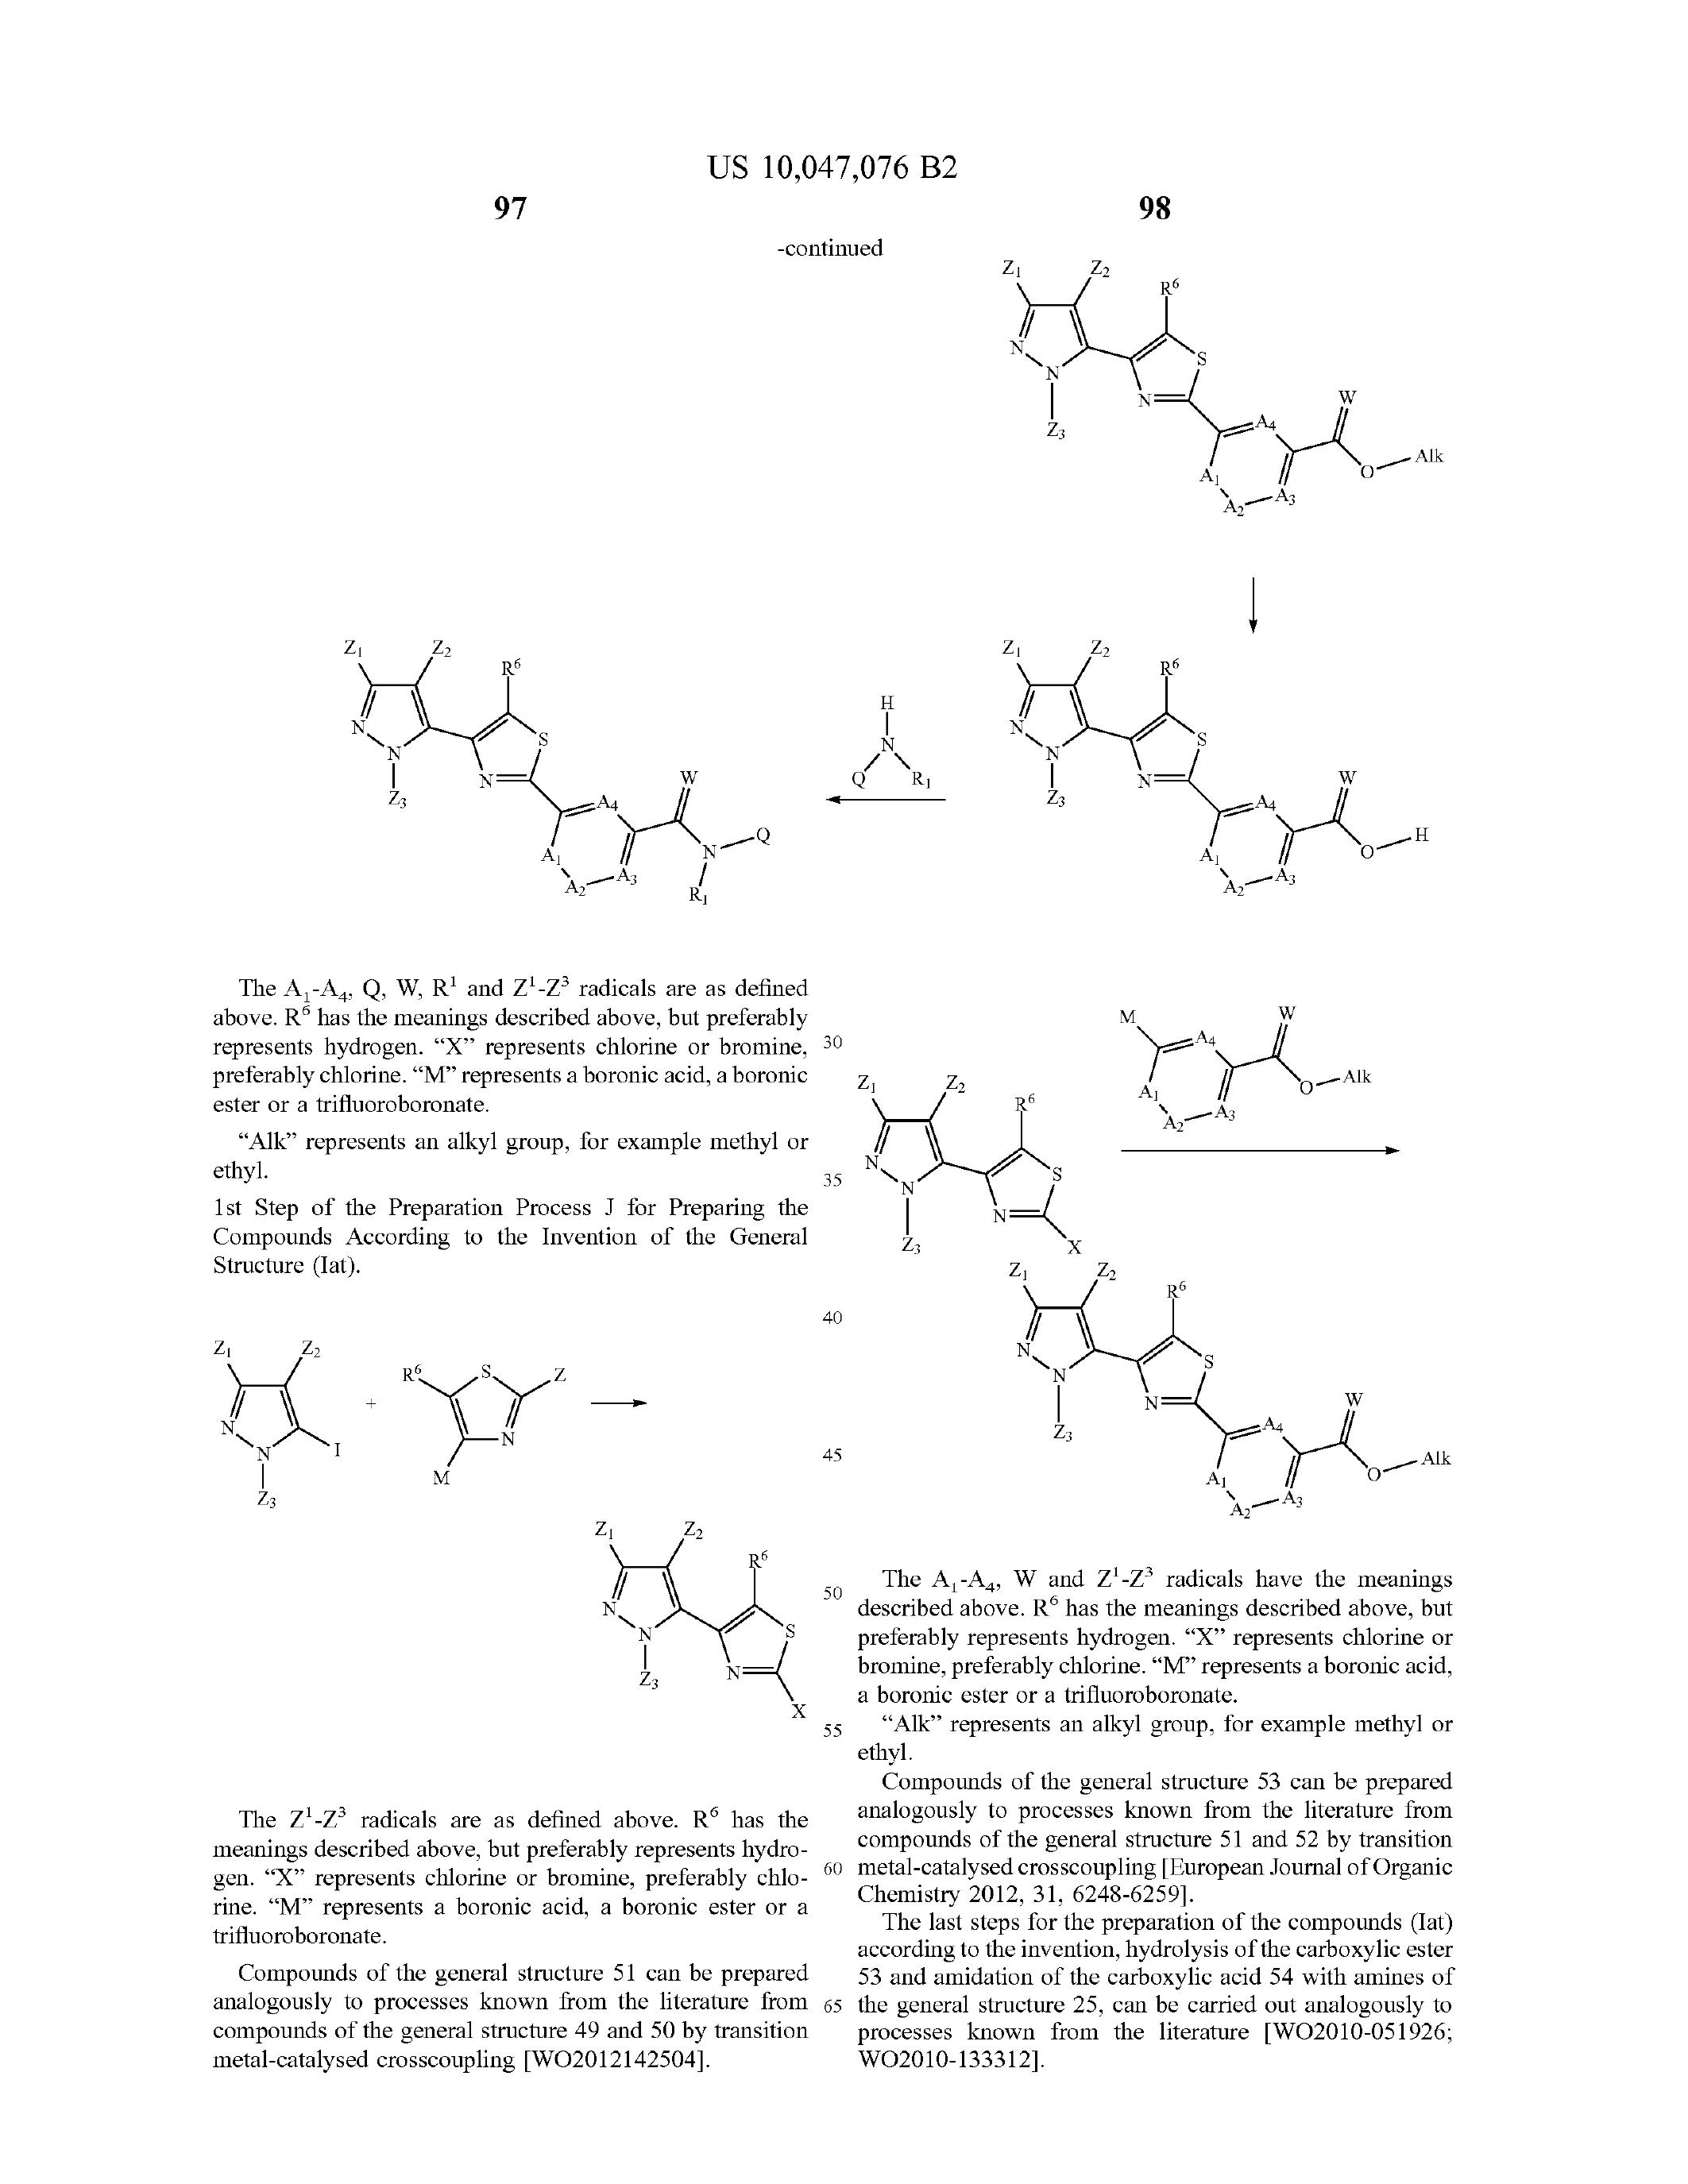markush-structures: (972, 1244, 1482, 1528)
